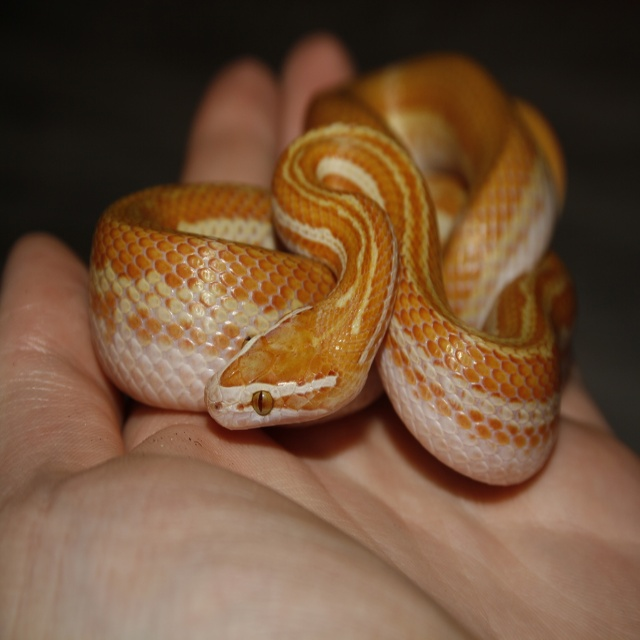Snake: (93, 53, 576, 488)
